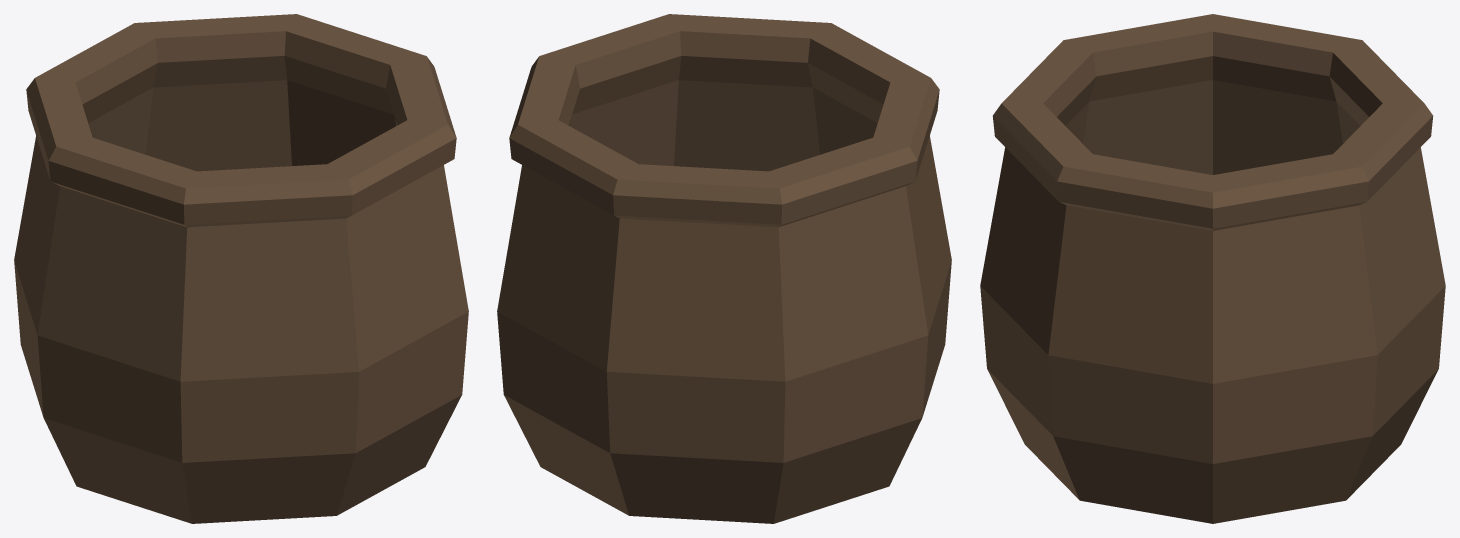
File: Tribal_Plains_Basket_Woven_03.fbx
3 views of the same model, side by side, from view 1: azimuth 30°, elevation 25°; view 2: azimuth 150°, elevation 25°; view 3: azimuth 270°, elevation 25° (orthographic).
Visible parts, largest first — view 1: Tribal_Plains_Basket_Woven_03; view 2: Tribal_Plains_Basket_Woven_03; view 3: Tribal_Plains_Basket_Woven_03.
Boxes of the visible parts, <box> form: Tribal_Plains_Basket_Woven_03: <box>14,14,468,523</box>; Tribal_Plains_Basket_Woven_03: <box>497,14,951,523</box>; Tribal_Plains_Basket_Woven_03: <box>980,14,1445,523</box>.
Size of the model in its own units: 1.1 by 0.8872 by 1.1.
